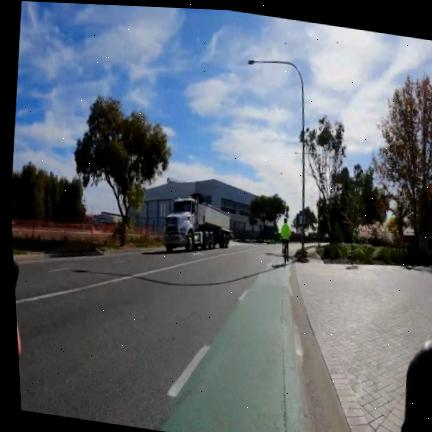Green_Bike_Lane: (156, 265, 303, 432)
